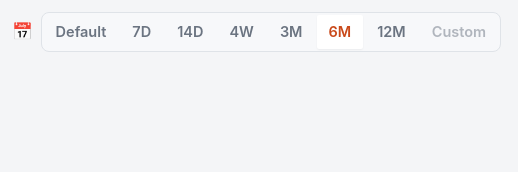
TimeframeBar › bấm '7D'/'14D'/'4W' → hiện ghi chú trung thực 'dữ liệu hiện theo tháng'
Step 1. Click the button "7D" → (142, 32), box [120,15,163,50]
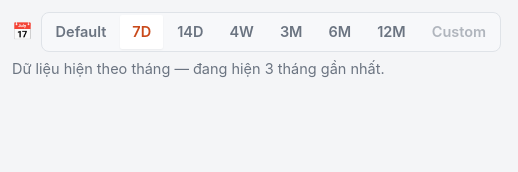
Check: the text "Dữ liệu hiện theo tháng — đang hiện 3 tháng gần nhất." is shown, box [12,60,385,78]
